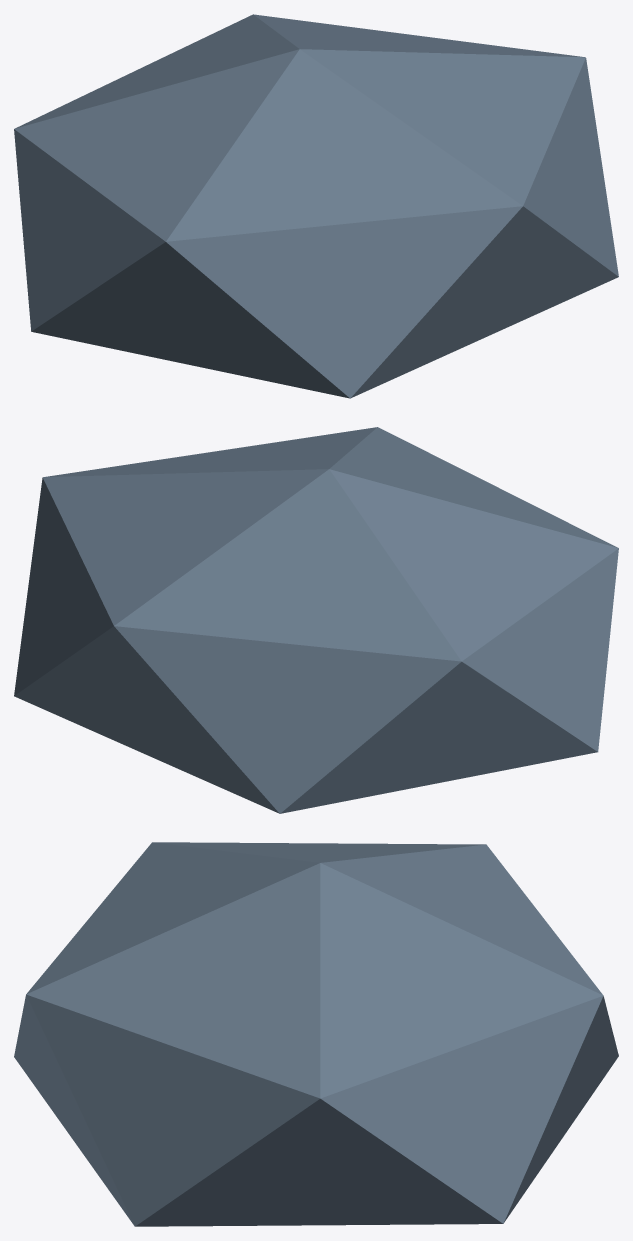
The model's file is enfeite_pedra_baixa.glb.
3 renders of one model, top to bottom at view 1: azimuth 30°, elevation 25°; view 2: azimuth 150°, elevation 25°; view 3: azimuth 270°, elevation 25°, orthographic. The views are drawn at different scales.
Visible parts, largest first — view 1: pedreira_enfeite_pedra_baixa; view 2: pedreira_enfeite_pedra_baixa; view 3: pedreira_enfeite_pedra_baixa.
Boxes of the visible parts, box(x1,y1,x2,y2) form: pedreira_enfeite_pedra_baixa: box(14, 14, 618, 398); pedreira_enfeite_pedra_baixa: box(14, 427, 618, 813); pedreira_enfeite_pedra_baixa: box(14, 842, 618, 1226).
Size of the model in its own units: 0.4304 by 0.2264 by 0.3754.
